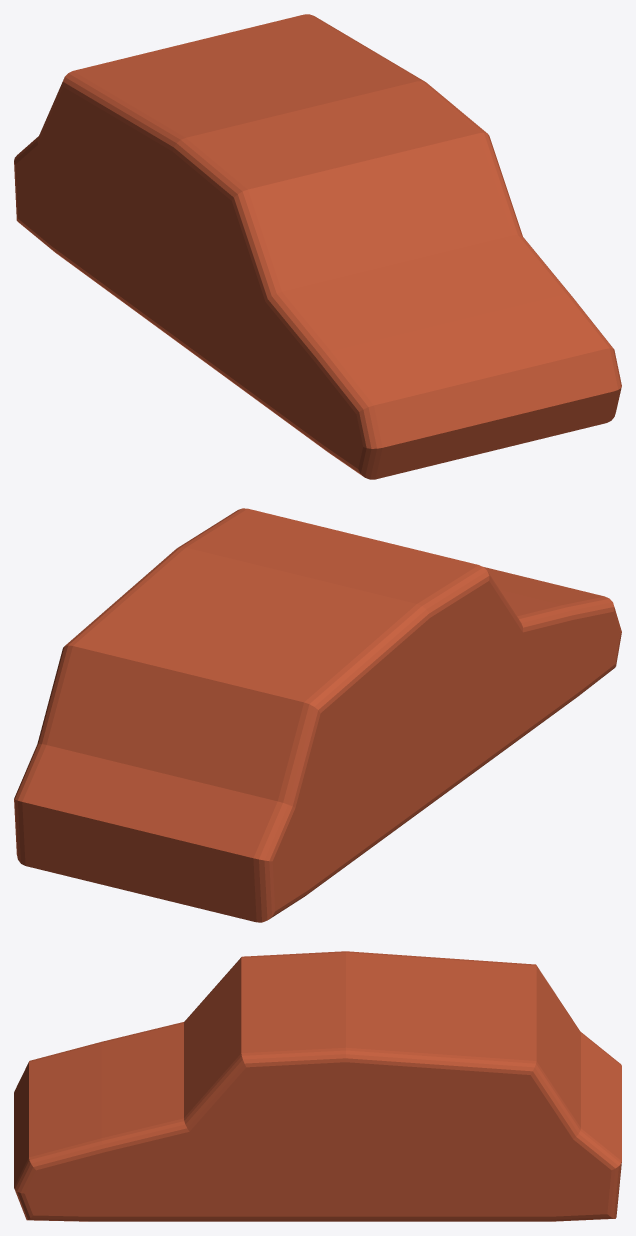
File: car-hatch.glb
The picture shows the model from 3 angles, top to bottom: view 1: azimuth 30°, elevation 25°; view 2: azimuth 150°, elevation 25°; view 3: azimuth 270°, elevation 25°; orthographic projection. The views are drawn at different scales.
Visible parts, largest first — view 1: body; view 2: body; view 3: body.
Part boxes in pixels (left/top/right/bottom): body: left=14, top=14, right=621, bottom=479; body: left=14, top=508, right=621, bottom=922; body: left=14, top=951, right=621, bottom=1221.
Size of the model in its own units: 1.76 by 1.34 by 4.28.
